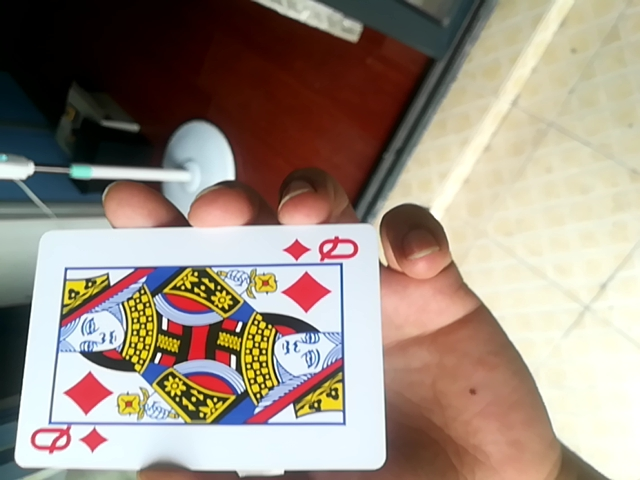fk q: (13, 220, 387, 475)
